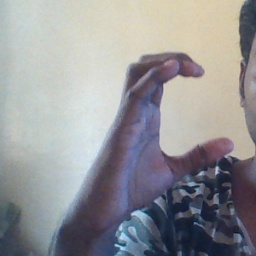C: (109, 48, 237, 187)
